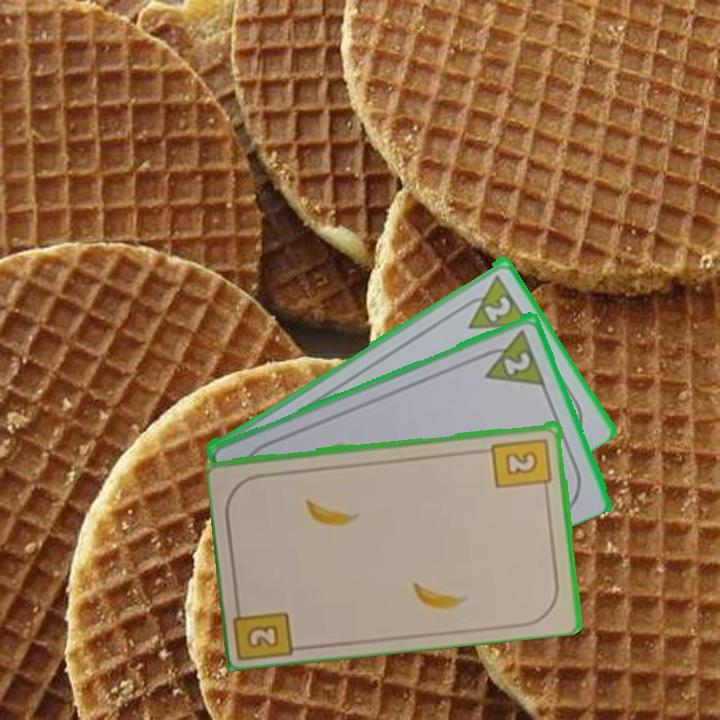2b: (232, 595, 299, 660), (489, 434, 555, 495)
2p: (474, 325, 548, 388), (480, 292, 515, 324)
